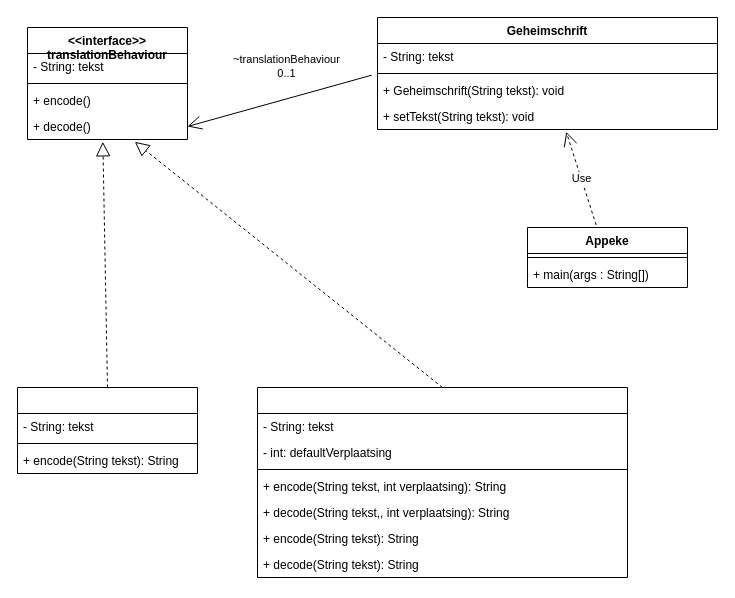
Image size: 735x598. Some labels were removed from this diagram. The box of each missing label's shape, as (x1, y1, x2, y2) in pixels:
Caesercijfer: (256, 386, 628, 578)
Spiegeling: (16, 386, 198, 474)
